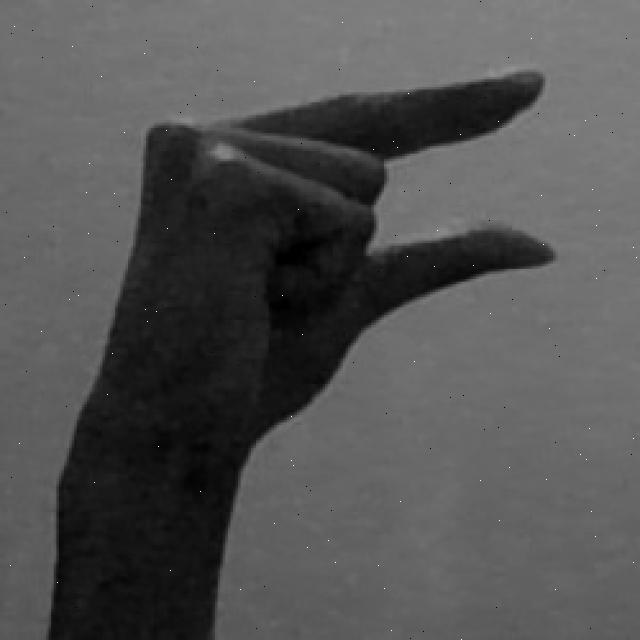G: (47, 65, 560, 640)
